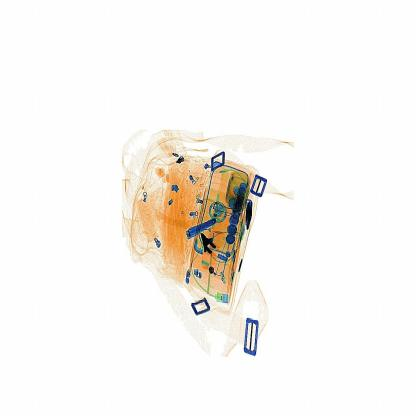gun: (192, 222, 229, 273)
